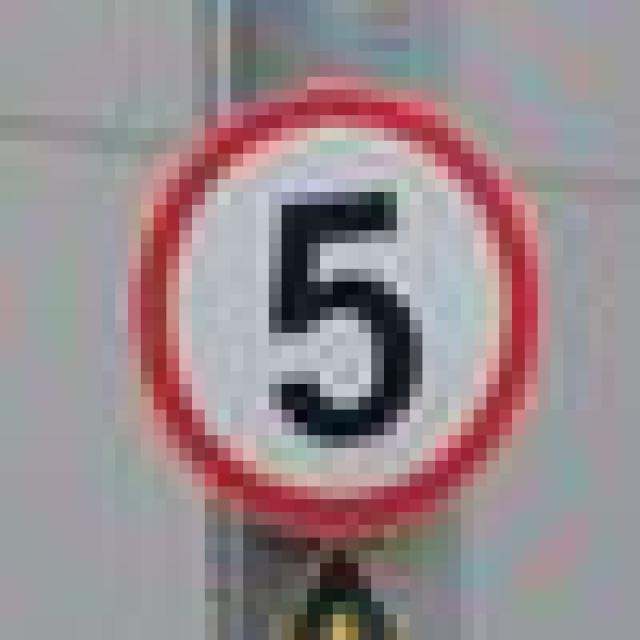speed_limit_20: (115, 76, 550, 538)
